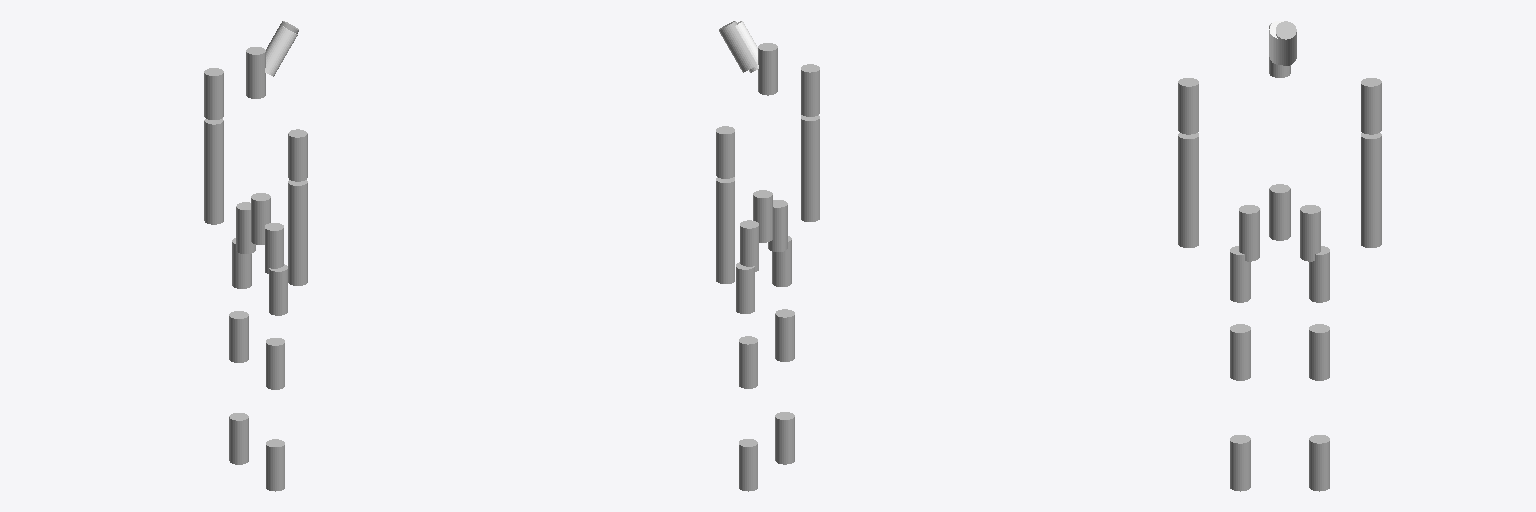
--- Render facts (derived) ---
Views: 3 orthographic renders of the robot side by side, from view 1: azimuth 30°, elevation 25°; view 2: azimuth 150°, elevation 25°; view 3: azimuth 270°, elevation 25°.
Model biped_s40 with 46 links and 45 joints (28 revolute, 17 fixed), rooted at dummy_link, posed all joints at 0.
Links seen in each view (by area): view 1: zarm_l1_link, leg_l4_link, zarm_r1_link, leg_l5_link, zhead_1_link, leg_r4_link, leg_r5_link, zarm_r4_link, zarm_l4_link, leg_r3_link, base_link, leg_r1_link (+5 smaller); view 2: leg_r4_link, leg_r5_link, zhead_1_link, leg_l4_link, zarm_l1_link, zarm_r1_link, leg_l5_link, leg_l3_link, zarm_l4_link, base_link, leg_l1_link, zarm_r4_link (+5 smaller); view 3: base_link, leg_l4_link, leg_r4_link, zarm_l1_link, zarm_r1_link, leg_l5_link, leg_r5_link, leg_l1_link, leg_r1_link, leg_l3_link, leg_r3_link, zarm_l4_link (+6 smaller).
Boxes of the visible links, x1,y1,x2,y2 form: zarm_l1_link: (204,68,223,119); leg_l4_link: (229,311,248,362); zarm_r1_link: (288,129,307,181); leg_l5_link: (229,413,248,464); zhead_1_link: (246,47,265,98); leg_r4_link: (266,338,284,389); leg_r5_link: (266,439,284,491); zarm_r4_link: (288,180,307,229); zarm_l4_link: (204,118,223,168); leg_r3_link: (269,264,287,315); base_link: (251,193,270,244); leg_r1_link: (265,223,283,273); leg_r4_link: (775,309,794,361); leg_r5_link: (775,412,794,464); zhead_1_link: (758,43,777,95); leg_l4_link: (739,336,757,388); zarm_l1_link: (716,126,734,178); zarm_r1_link: (801,64,819,116); leg_l5_link: (739,439,757,491); leg_l3_link: (736,262,754,313); zarm_l4_link: (716,177,734,227); base_link: (753,190,772,242); leg_l1_link: (740,220,758,271); zarm_r4_link: (801,115,819,165); base_link: (1269,184,1290,240); leg_l4_link: (1309,324,1329,380); leg_r4_link: (1230,324,1250,380); zarm_l1_link: (1361,78,1381,134); zarm_r1_link: (1178,78,1198,134); leg_l5_link: (1309,435,1329,491); leg_r5_link: (1230,435,1250,491); leg_l1_link: (1300,205,1320,261); leg_r1_link: (1239,205,1259,261); leg_l3_link: (1309,246,1329,302); leg_r3_link: (1230,246,1250,302); zarm_l4_link: (1361,133,1381,186).
Bounding box of the posed robot: 0.1895 × 0.5777 × 1.51 m (x, y, z).
Geometry: primitives only (box / cylinder / sphere), no mesh files.

The robot description file, URDF, robot "biped_s40":
<?xml version='1.0' encoding='utf-8'?>
<robot name="biped_s40">
  <mujoco>
    <compiler meshdir="../meshes/" balanceinertia="true" discardvisual="false" />
  </mujoco>
  <link name="dummy_link" />
  <link name="base_link">
    <inertial>
      <origin xyz="-0.00505 0.0014 0.18077" rpy="0 0 0" />
      <mass value="18.7919" />
      <inertia ixx="0.28214" ixy="3e-05" ixz="0.01114" iyy="0.20534" iyz="0.00044" izz="0.13735" />
    </inertial>
        <visual>
      <origin xyz="0 0 0" rpy="0 0 0" />
      <geometry>
        <cylinder radius="0.03" length="0.15" />
      </geometry>
      <material name="">
        <color rgba="0.8 0.8 0.8 1" />
      </material>
    </visual>
    <visual>
      <origin xyz="0 0 0" rpy="0 0 0" />
      <geometry>
        <sphere radius="0.03" />
      </geometry>
      <material name="">
        <color rgba="0.6 0.6 0.9 1" />
      </material>
    </visual>
  </link>
  <joint name="dummy_to_base_link" type="fixed">
    <origin xyz="0 0 0" rpy="0 0 0" />
    <parent link="dummy_link" />
    <child link="base_link" />
  </joint>
  <link name="leg_l1_link">
    <inertial>
      <origin xyz="-0.00624961 -5.6e-06 -0.00874166" rpy="0 0 0" />
      <mass value="1.79206533" />
      <inertia ixx="0.00211603" ixy="7.6e-07" ixz="0.000107" iyy="0.00302948" iyz="4.73e-06" izz="0.00399385" />
    </inertial>
        <visual>
      <origin xyz="0 0 0" rpy="0 0 0" />
      <geometry>
        <cylinder radius="0.03" length="0.15" />
      </geometry>
      <material name="">
        <color rgba="0.8 0.8 0.8 1" />
      </material>
    </visual>
    <visual>
      <origin xyz="0 0 0" rpy="0 0 0" />
      <geometry>
        <sphere radius="0.03" />
      </geometry>
      <material name="">
        <color rgba="0.6 0.6 0.9 1" />
      </material>
    </visual>
  </link>
  <joint name="leg_l1_joint" type="revolute">
    <origin xyz="-0.0025 0.087 -0.066" rpy="0 0 0" />
    <parent link="base_link" />
    <child link="leg_l1_link" />
    <axis xyz="1 0 0" />
    <limit lower="-0.314159265358979" upper="0.663225115757845" effort="180.0" velocity="23.55" />
  </joint>
  <link name="leg_l2_link">
    <inertial>
      <origin xyz="4.471e-05 0.04985881 -0.11682314" rpy="0 0 0" />
      <mass value="1.67630577" />
      <inertia ixx="0.00548763" ixy="-2.73e-06" ixz="-9.2e-07" iyy="0.0041542" iyz="0.00050833" izz="0.00426092" />
    </inertial>
        <visual>
      <origin xyz="0 0 0" rpy="0 0 0" />
      <geometry>
        <cylinder radius="0.03" length="0.15" />
      </geometry>
      <material name="">
        <color rgba="0.8 0.8 0.8 1" />
      </material>
    </visual>
    <visual>
      <origin xyz="0 0 0" rpy="0 0 0" />
      <geometry>
        <sphere radius="0.03" />
      </geometry>
      <material name="">
        <color rgba="0.6 0.6 0.9 1" />
      </material>
    </visual>
  </link>
  <joint name="leg_l2_joint" type="revolute">
    <origin xyz="0 0 0" rpy="0 0 0" />
    <parent link="leg_l1_link" />
    <child link="leg_l2_link" />
    <axis xyz="0 0 1" />
    <limit lower="-1.0471975511966" upper="0.523598775598299" effort="100.0" velocity="41.3433333333333" />
  </joint>
  <link name="leg_l3_link">
    <inertial>
      <origin xyz="-0.00238348 -0.02309435 -0.06304956" rpy="0 0 0" />
      <mass value="2.46847" />
      <inertia ixx="0.02435272" ixy="4.518e-05" ixz="0.00123822" iyy="0.02479772" iyz="0.00261624" izz="0.00478829" />
    </inertial>
        <visual>
      <origin xyz="0 0 0" rpy="0 0 0" />
      <geometry>
        <cylinder radius="0.03" length="0.15" />
      </geometry>
      <material name="">
        <color rgba="0.8 0.8 0.8 1" />
      </material>
    </visual>
    <visual>
      <origin xyz="0 0 0" rpy="0 0 0" />
      <geometry>
        <sphere radius="0.03" />
      </geometry>
      <material name="">
        <color rgba="0.6 0.6 0.9 1" />
      </material>
    </visual>
  </link>
  <joint name="leg_l3_joint" type="revolute">
    <origin xyz="0 0.02545000000000 -0.1287" rpy="0 0 0" />
    <parent link="leg_l2_link" />
    <child link="leg_l3_link" />
    <axis xyz="0 1 0" />
    <limit lower="-1.83259571459405" upper="1.0471975511966" effort="100.0" velocity="41.3433333333333" />
  </joint>
  <link name="leg_l4_link">
    <inertial>
      <origin xyz="0.00304104 -4.1e-05 -0.12213928" rpy="0 0 0" />
      <mass value="1.86452506" />
      <inertia ixx="0.01537791" ixy="7.85e-06" ixz="-0.00010781" iyy="0.01559985" iyz="-0.00015323" izz="0.00123021" />
    </inertial>
        <visual>
      <origin xyz="0 0 0" rpy="0 0 0" />
      <geometry>
        <cylinder radius="0.03" length="0.15" />
      </geometry>
      <material name="">
        <color rgba="0.8 0.8 0.8 1" />
      </material>
    </visual>
    <visual>
      <origin xyz="0 0 0" rpy="0 0 0" />
      <geometry>
        <sphere radius="0.03" />
      </geometry>
      <material name="">
        <color rgba="0.6 0.6 0.9 1" />
      </material>
    </visual>
  </link>
  <joint name="leg_l4_joint" type="revolute">
    <origin xyz="-0.010390161952608 0 -0.249783995753446" rpy="0 0 0" />
    <parent link="leg_l3_link" />
    <child link="leg_l4_link" />
    <axis xyz="0 1 0" />
    <limit lower="0.0" upper="2.18166156499291" effort="100.0" velocity="41.3433333333333" />
  </joint>
  <link name="leg_l5_link">
    <inertial>
      <origin xyz="0.0 0.0 0.0" rpy="0 0 0" />
      <mass value="0.06923929" />
      <inertia ixx="6.66e-06" ixy="0.0" ixz="0.0" iyy="6.66e-06" iyz="0.0" izz="1.172e-05" />
    </inertial>
        <visual>
      <origin xyz="0 0 0" rpy="0 0 0" />
      <geometry>
        <cylinder radius="0.03" length="0.15" />
      </geometry>
      <material name="">
        <color rgba="0.8 0.8 0.8 1" />
      </material>
    </visual>
    <visual>
      <origin xyz="0 0 0" rpy="0 0 0" />
      <geometry>
        <sphere radius="0.03" />
      </geometry>
      <material name="">
        <color rgba="0.6 0.6 0.9 1" />
      </material>
    </visual>
  </link>
  <joint name="leg_l5_joint" type="revolute">
    <origin xyz="0 0 -0.346000000000004" rpy="0 0 0" />
    <parent link="leg_l4_link" />
    <child link="leg_l5_link" />
    <axis xyz="0 1 0" />
    <limit lower="-0.610865238198015" upper="0.523598775598299" effort="36.0" velocity="23.0266666666667" />
  </joint>
  <link name="leg_l6_link">
    <inertial>
      <origin xyz="-0.00987056 -7.58e-06 -0.03365514" rpy="0 0 0" />
      <mass value="0.58358325" />
      <inertia ixx="0.0006342" ixy="1.4e-07" ixz="0.00031564" iyy="0.00227317" iyz="-2e-08" izz="0.00239382" />
    </inertial>
        <visual>
      <origin xyz="0 0 0" rpy="0 0 0" />
      <geometry>
        <cylinder radius="0.03" length="0.15" />
      </geometry>
      <material name="">
        <color rgba="0.8 0.8 0.8 1" />
      </material>
    </visual>
    <visual>
      <origin xyz="0 0 0" rpy="0 0 0" />
      <geometry>
        <sphere radius="0.03" />
      </geometry>
      <material name="">
        <color rgba="0.6 0.6 0.9 1" />
      </material>
    </visual>
  </link>
  <joint name="leg_l6_joint" type="revolute">
    <origin xyz="0 0 0" rpy="0 0 0" />
    <parent link="leg_l5_link" />
    <child link="leg_l6_link" />
    <axis xyz="1 0 0" />
    <limit lower="-0.349065850398866" upper="0.349065850398866" effort="36.0" velocity="23.0266666666667" />
  </joint>
  <link name="ll_foot_toe">
    <collision>
      <origin rpy="0 0 0" xyz="0 0 0" />
      <geometry>
        <sphere radius="0.005" />
      </geometry>
    </collision>
  </link>
  <joint name="ll_foot_toe_joint" type="fixed">
    <origin xyz="0.142507 0.04773 -0.0595" rpy="0 0 0" />
    <parent link="leg_l6_link" />
    <child link="ll_foot_toe" />
  </joint>
  <link name="ll_foot_heel">
    <collision>
      <origin rpy="0 0 0" xyz="0 0 0" />
      <geometry>
        <sphere radius="0.005" />
      </geometry>
    </collision>
  </link>
  <joint name="ll_foot_heel_joint" type="fixed">
    <origin xyz="-0.10149 0.04773 -0.0595" rpy="0 0 0" />
    <parent link="leg_l6_link" />
    <child link="ll_foot_heel" />
  </joint>
  <link name="lr_foot_toe">
    <collision>
      <origin rpy="0 0 0" xyz="0 0 0" />
      <geometry>
        <sphere radius="0.005" />
      </geometry>
    </collision>
  </link>
  <joint name="lr_foot_toe_joint" type="fixed">
    <origin xyz="0.142507 -0.04773 -0.0595" rpy="0 0 0" />
    <parent link="leg_l6_link" />
    <child link="lr_foot_toe" />
  </joint>
  <link name="lr_foot_heel">
    <collision>
      <origin rpy="0 0 0" xyz="0 0 0" />
      <geometry>
        <sphere radius="0.005" />
      </geometry>
    </collision>
  </link>
  <joint name="lr_foot_heel_joint" type="fixed">
    <origin xyz="-0.10149 -0.04773 -0.0595" rpy="0 0 0" />
    <parent link="leg_l6_link" />
    <child link="lr_foot_heel" />
  </joint>
  <link name="l_foot_toe">
    <collision>
      <origin rpy="0 0 0" xyz="0 0 0" />
      <geometry>
        <sphere radius="0.005" />
      </geometry>
    </collision>
  </link>
  <joint name="l_foot_toe_joint" type="fixed">
    <origin xyz="0.142507 0.0 -0.0595" rpy="0 0 0" />
    <parent link="leg_l6_link" />
    <child link="l_foot_toe" />
  </joint>
  <link name="l_foot_heel">
    <collision>
      <origin rpy="0 0 0" xyz="0 0 0" />
      <geometry>
        <sphere radius="0.005" />
      </geometry>
    </collision>
  </link>
  <joint name="l_foot_heel_joint" type="fixed">
    <origin xyz="-0.10149 0.0 -0.0595" rpy="0 0 0" />
    <parent link="leg_l6_link" />
    <child link="l_foot_heel" />
  </joint>
  <link name="leg_r1_link">
    <inertial>
      <origin xyz="-0.00624961 5.65e-06 -0.00874165" rpy="0 0 0" />
      <mass value="1.79206572" />
      <inertia ixx="0.00211603" ixy="-7.6e-07" ixz="0.000107" iyy="0.00302948" iyz="-4.73e-06" izz="0.00399385" />
    </inertial>
        <visual>
      <origin xyz="0 0 0" rpy="0 0 0" />
      <geometry>
        <cylinder radius="0.03" length="0.15" />
      </geometry>
      <material name="">
        <color rgba="0.8 0.8 0.8 1" />
      </material>
    </visual>
    <visual>
      <origin xyz="0 0 0" rpy="0 0 0" />
      <geometry>
        <sphere radius="0.03" />
      </geometry>
      <material name="">
        <color rgba="0.6 0.6 0.9 1" />
      </material>
    </visual>
  </link>
  <joint name="leg_r1_joint" type="revolute">
    <origin xyz="-0.0025 -0.087 -0.066" rpy="0 0 0" />
    <parent link="base_link" />
    <child link="leg_r1_link" />
    <axis xyz="1 0 0" />
    <limit lower="-0.663225115757845" upper="0.314159265358979" effort="180.0" velocity="23.55" />
  </joint>
  <link name="leg_r2_link">
    <inertial>
      <origin xyz="4.471e-05 -0.04985878 -0.11682313" rpy="0 0 0" />
      <mass value="1.67630636" />
      <inertia ixx="0.00548764" ixy="2.73e-06" ixz="-9.2e-07" iyy="0.00415421" iyz="-0.00050832" izz="0.00426093" />
    </inertial>
        <visual>
      <origin xyz="0 0 0" rpy="0 0 0" />
      <geometry>
        <cylinder radius="0.03" length="0.15" />
      </geometry>
      <material name="">
        <color rgba="0.8 0.8 0.8 1" />
      </material>
    </visual>
    <visual>
      <origin xyz="0 0 0" rpy="0 0 0" />
      <geometry>
        <sphere radius="0.03" />
      </geometry>
      <material name="">
        <color rgba="0.6 0.6 0.9 1" />
      </material>
    </visual>
  </link>
  <joint name="leg_r2_joint" type="revolute">
    <origin xyz="0 0 0" rpy="0 0 0" />
    <parent link="leg_r1_link" />
    <child link="leg_r2_link" />
    <axis xyz="0 0 1" />
    <limit lower="-0.523598775598299" upper="1.0471975511966" effort="100.0" velocity="41.3433333333333" />
  </joint>
  <link name="leg_r3_link">
    <inertial>
      <origin xyz="-0.00238153 0.02309009 -0.06305853" rpy="0 0 0" />
      <mass value="2.46916674" />
      <inertia ixx="0.02435155" ixy="-4.518e-05" ixz="0.00123747" iyy="0.02479853" iyz="-0.00261573" izz="0.0047908" />
    </inertial>
        <visual>
      <origin xyz="0 0 0" rpy="0 0 0" />
      <geometry>
        <cylinder radius="0.03" length="0.15" />
      </geometry>
      <material name="">
        <color rgba="0.8 0.8 0.8 1" />
      </material>
    </visual>
    <visual>
      <origin xyz="0 0 0" rpy="0 0 0" />
      <geometry>
        <sphere radius="0.03" />
      </geometry>
      <material name="">
        <color rgba="0.6 0.6 0.9 1" />
      </material>
    </visual>
  </link>
  <joint name="leg_r3_joint" type="revolute">
    <origin xyz="0 -0.02545000000000 -0.1287" rpy="0 0 0" />
    <parent link="leg_r2_link" />
    <child link="leg_r3_link" />
    <axis xyz="0 1 0" />
    <limit lower="-1.83259571459405" upper="1.0471975511966" effort="100.0" velocity="41.3433333333333" />
  </joint>
  <link name="leg_r4_link">
    <inertial>
      <origin xyz="0.00304109 4.102e-05 -0.12213983" rpy="0 0 0" />
      <mass value="1.86454133" />
      <inertia ixx="0.01537809" ixy="-7.85e-06" ixz="-0.00010779" iyy="0.01560001" iyz="0.00015322" izz="0.00123022" />
    </inertial>
        <visual>
      <origin xyz="0 0 0" rpy="0 0 0" />
      <geometry>
        <cylinder radius="0.03" length="0.15" />
      </geometry>
      <material name="">
        <color rgba="0.8 0.8 0.8 1" />
      </material>
    </visual>
    <visual>
      <origin xyz="0 0 0" rpy="0 0 0" />
      <geometry>
        <sphere radius="0.03" />
      </geometry>
      <material name="">
        <color rgba="0.6 0.6 0.9 1" />
      </material>
    </visual>
  </link>
  <joint name="leg_r4_joint" type="revolute">
    <origin xyz="-0.0103901619526017 0 -0.249783995753447" rpy="0 0 0" />
    <parent link="leg_r3_link" />
    <child link="leg_r4_link" />
    <axis xyz="0 1 0" />
    <limit lower="0.0" upper="2.18166156499291" effort="100.0" velocity="41.3433333333333" />
  </joint>
  <link name="leg_r5_link">
    <inertial>
      <origin xyz="0.0 0.0 0.0" rpy="0 0 0" />
      <mass value="0.06923929" />
      <inertia ixx="6.66e-06" ixy="0.0" ixz="0.0" iyy="6.66e-06" iyz="0.0" izz="1.172e-05" />
    </inertial>
        <visual>
      <origin xyz="0 0 0" rpy="0 0 0" />
      <geometry>
        <cylinder radius="0.03" length="0.15" />
      </geometry>
      <material name="">
        <color rgba="0.8 0.8 0.8 1" />
      </material>
    </visual>
    <visual>
      <origin xyz="0 0 0" rpy="0 0 0" />
      <geometry>
        <sphere radius="0.03" />
      </geometry>
      <material name="">
        <color rgba="0.6 0.6 0.9 1" />
      </material>
    </visual>
  </link>
  <joint name="leg_r5_joint" type="revolute">
    <origin xyz="0 0 -0.346000000000011" rpy="0 0 0" />
    <parent link="leg_r4_link" />
    <child link="leg_r5_link" />
    <axis xyz="0 1 0" />
    <limit lower="-0.523598775598299" upper="0.523598775598299" effort="36.0" velocity="23.0266666666667" />
  </joint>
  <link name="leg_r6_link">
    <inertial>
      <origin xyz="-0.00987049 7.65e-06 -0.03365512" rpy="0 0 0" />
      <mass value="0.58358273" />
      <inertia ixx="0.0006342" ixy="-1.4e-07" ixz="0.00031564" iyy="0.00227317" iyz="2e-08" izz="0.00239382" />
    </inertial>
        <visual>
      <origin xyz="0 0 0" rpy="0 0 0" />
      <geometry>
        <cylinder radius="0.03" length="0.15" />
      </geometry>
      <material name="">
        <color rgba="0.8 0.8 0.8 1" />
      </material>
    </visual>
    <visual>
      <origin xyz="0 0 0" rpy="0 0 0" />
      <geometry>
        <sphere radius="0.03" />
      </geometry>
      <material name="">
        <color rgba="0.6 0.6 0.9 1" />
      </material>
    </visual>
  </link>
  <joint name="leg_r6_joint" type="revolute">
    <origin xyz="0 0 0" rpy="0 0 0" />
    <parent link="leg_r5_link" />
    <child link="leg_r6_link" />
    <axis xyz="1 0 0" />
    <limit lower="-0.349065850398866" upper="0.349065850398866" effort="36.0" velocity="23.0266666666667" />
  </joint>
  <link name="rl_foot_toe">
    <collision>
      <origin rpy="0 0 0" xyz="0 0 0" />
      <geometry>
        <sphere radius="0.005" />
      </geometry>
    </collision>
  </link>
  <joint name="rl_foot_toe_joint" type="fixed">
    <origin xyz="0.142507 0.04773 -0.0595" rpy="0 0 0" />
    <parent link="leg_r6_link" />
    <child link="rl_foot_toe" />
  </joint>
  <link name="rl_foot_heel">
    <collision>
      <origin rpy="0 0 0" xyz="0 0 0" />
      <geometry>
        <sphere radius="0.005" />
      </geometry>
    </collision>
  </link>
  <joint name="rl_foot_heel_joint" type="fixed">
    <origin xyz="-0.10149 0.04773 -0.0595" rpy="0 0 0" />
    <parent link="leg_r6_link" />
    <child link="rl_foot_heel" />
  </joint>
  <link name="rr_foot_toe">
    <collision>
      <origin rpy="0 0 0" xyz="0 0 0" />
      <geometry>
        <sphere radius="0.005" />
      </geometry>
    </collision>
  </link>
  <joint name="rr_foot_toe_joint" type="fixed">
    <origin xyz="0.142507 -0.04773 -0.0595" rpy="0 0 0" />
    <parent link="leg_r6_link" />
    <child link="rr_foot_toe" />
  </joint>
  <link name="rr_foot_heel">
    <collision>
      <origin rpy="0 0 0" xyz="0 0 0" />
      <geometry>
        <sphere radius="0.005" />
      </geometry>
    </collision>
  </link>
  <joint name="rr_foot_heel_joint" type="fixed">
    <origin xyz="-0.10149 -0.04773 -0.0595" rpy="0 0 0" />
    <parent link="leg_r6_link" />
    <child link="rr_foot_heel" />
  </joint>
  <link name="r_foot_toe">
    <collision>
      <origin rpy="0 0 0" xyz="0 0 0" />
      <geometry>
        <sphere radius="0.005" />
      </geometry>
    </collision>
  </link>
  <joint name="r_foot_toe_joint" type="fixed">
    <origin xyz="0.142507 0.0 -0.0595" rpy="0 0 0" />
    <parent link="leg_r6_link" />
    <child link="r_foot_toe" />
  </joint>
  <link name="r_foot_heel">
    <collision>
      <origin rpy="0 0 0" xyz="0 0 0" />
      <geometry>
        <sphere radius="0.005" />
      </geometry>
    </collision>
  </link>
  <joint name="r_foot_heel_joint" type="fixed">
    <origin xyz="-0.10149 0.0 -0.0595" rpy="0 0 0" />
    <parent link="leg_r6_link" />
    <child link="r_foot_heel" />
  </joint>
  <link name="zarm_l1_link">
    <inertial>
      <origin xyz="0.008 -0.00158 0.0036" rpy="0 0 0" />
      <mass value="1.15" />
      <inertia ixx="0.0006" ixy="5e-05" ixz="1e-05" iyy="0.00048" iyz="-6e-05" izz="0.0007" />
    </inertial>
        <visual>
      <origin xyz="0 0 0" rpy="0 0 0" />
      <geometry>
        <cylinder radius="0.03" length="0.15" />
      </geometry>
      <material name="">
        <color rgba="0.8 0.8 0.8 1" />
      </material>
    </visual>
    <visual>
      <origin xyz="0 0 0" rpy="0 0 0" />
      <geometry>
        <sphere radius="0.03" />
      </geometry>
      <material name="">
        <color rgba="0.6 0.6 0.9 1" />
      </material>
    </visual>
  </link>
  <joint name="zarm_l1_joint" type="revolute">
    <origin xyz="-0.0175 0.25886 0.3245" rpy="0 0 0" />
    <parent link="base_link" />
    <child link="zarm_l1_link" />
    <axis xyz="0 1 0" />
    <limit lower="-2.61799387799149" upper="0.523598775598299" effort="100.0" velocity="41.3433333333333" />
  </joint>
  <link name="zarm_l2_link">
    <inertial>
      <origin xyz="0.00144 0.02159 -0.0202" rpy="0 0 0" />
      <mass value="0.226" />
      <inertia ixx="0.0003" ixy="3e-05" ixz="1e-05" iyy="0.00061" iyz="5e-05" izz="0.00057" />
    </inertial>
        <visual>
      <origin xyz="0 0 0" rpy="0 0 0" />
      <geometry>
        <cylinder radius="0.03" length="0.15" />
      </geometry>
      <material name="">
        <color rgba="0.8 0.8 0.8 1" />
      </material>
    </visual>
    <visual>
      <origin xyz="0 0 0" rpy="0 0 0" />
      <geometry>
        <sphere radius="0.03" />
      </geometry>
      <material name="">
        <color rgba="0.6 0.6 0.9 1" />
      </material>
    </visual>
  </link>
  <joint name="zarm_l2_joint" type="revolute">
    <origin xyz="0 0 0" rpy="0 0 0" />
    <parent link="zarm_l1_link" />
    <child link="zarm_l2_link" />
    <axis xyz="1 0 0" />
    <limit lower="-0.349065850398866" upper="2.0943951023932" effort="50.0" velocity="19.154" />
  </joint>
  <link name="zarm_l3_link">
    <inertial>
      <origin xyz="-0.00157 -3e-05 -0.13318" rpy="0 0 0" />
      <mass value="1.166" />
      <inertia ixx="0.00245" ixy="-1e-05" ixz="-1e-05" iyy="0.0022" iyz="0.0" izz="0.00112" />
    </inertial>
        <visual>
      <origin xyz="0 0 0" rpy="0 0 0" />
      <geometry>
        <cylinder radius="0.03" length="0.15" />
      </geometry>
      <material name="">
        <color rgba="0.8 0.8 0.8 1" />
      </material>
    </visual>
    <visual>
      <origin xyz="0 0 0" rpy="0 0 0" />
      <geometry>
        <sphere radius="0.03" />
      </geometry>
      <material name="">
        <color rgba="0.6 0.6 0.9 1" />
      </material>
    </visual>
  </link>
  <joint name="zarm_l3_joint" type="revolute">
    <origin xyz="0 0 0" rpy="0 0 0" />
    <parent link="zarm_l2_link" />
    <child link="zarm_l3_link" />
    <axis xyz="0 0 1" />
    <limit lower="-1.5707963267949" upper="1.5707963267949" effort="20.0" velocity="18.84" />
  </joint>
  <link name="zarm_l4_link">
    <inertial>
      <origin xyz="-4e-05 0.0098 -0.05283" rpy="0 0 0" />
      <mass value="0.575" />
      <inertia ixx="0.00098" ixy="0.0" ixz="0.0" iyy="0.00062" iyz="-0.00016" izz="0.00088" />
    </inertial>
        <visual>
      <origin xyz="0 0 0" rpy="0 0 0" />
      <geometry>
        <cylinder radius="0.03" length="0.15" />
      </geometry>
      <material name="">
        <color rgba="0.8 0.8 0.8 1" />
      </material>
    </visual>
    <visual>
      <origin xyz="0 0 0" rpy="0 0 0" />
      <geometry>
        <sphere radius="0.03" />
      </geometry>
      <material name="">
        <color rgba="0.6 0.6 0.9 1" />
      </material>
    </visual>
  </link>
  <joint name="zarm_l4_joint" type="revolute">
    <origin xyz="0 0 -0.1646" rpy="0 0 0" />
    <parent link="zarm_l3_link" />
    <child link="zarm_l4_link" />
    <axis xyz="0 1 0" />
    <limit lower="-1.5707963267949" upper="0.0" effort="20.0" velocity="18.84" />
  </joint>
  <link name="zarm_l5_link">
    <inertial>
      <origin xyz="-0.00011 0.00421 -0.11168" rpy="0 0 0" />
      <mass value="0.46" />
      <inertia ixx="0.00077" ixy="0.0" ixz="0.0" iyy="0.0005" iyz="-4e-05" izz="0.00063" />
    </inertial>
        <visual>
      <origin xyz="0 0 0" rpy="0 0 0" />
      <geometry>
        <cylinder radius="0.03" length="0.15" />
      </geometry>
      <material name="">
        <color rgba="0.8 0.8 0.8 1" />
      </material>
    </visual>
    <visual>
      <origin xyz="0 0 0" rpy="0 0 0" />
      <geometry>
        <sphere radius="0.03" />
      </geometry>
      <material name="">
        <color rgba="0.6 0.6 0.9 1" />
      </material>
    </visual>
  </link>
  <joint name="zarm_l5_joint" type="revolute">
    <origin xyz="0 0 0" rpy="0 0 0" />
    <parent link="zarm_l4_link" />
    <child link="zarm_l5_link" />
    <axis xyz="0 0 1" />
    <limit lower="-1.5707963267949" upper="1.5707963267949" effort="6.0" velocity="21.666" />
  </joint>
  <link name="zarm_l6_link">
    <inertial>
      <origin xyz="0.00253 0.00382 -0.05356" rpy="0 0 0" />
      <mass value="0.35" />
      <inertia ixx="0.00023" ixy="0.0" ixz="0.0" iyy="0.00024" iyz="-4e-05" izz="0.00019" />
    </inertial>
        <visual>
      <origin xyz="0 0 0" rpy="0 0 0" />
      <geometry>
        <cylinder radius="0.03" length="0.15" />
      </geometry>
      <material name="">
        <color rgba="0.8 0.8 0.8 1" />
      </material>
    </visual>
    <visual>
      <origin xyz="0 0 0" rpy="0 0 0" />
      <geometry>
        <sphere radius="0.03" />
      </geometry>
      <material name="">
        <color rgba="0.6 0.6 0.9 1" />
      </material>
    </visual>
  </link>
  <joint name="zarm_l6_joint" type="revolute">
    <origin xyz="0 0 -0.132050000125748" rpy="0 0 0" />
    <parent link="zarm_l5_link" />
    <child link="zarm_l6_link" />
    <axis xyz="0 1 0" />
    <limit lower="-1.5707963267949" upper="1.5707963267949" effort="6.0" velocity="21.666" />
  </joint>
  <link name="zarm_l7_link">
    <inertial>
      <origin xyz="0.00267 0.00748 -0.07162" rpy="0 0 0" />
      <mass value="0.81" />
      <inertia ixx="0.00117" ixy="2e-05" ixz="0.0" iyy="0.00128" iyz="-2e-05" izz="0.00036" />
    </inertial>
        <visual>
      <origin xyz="0 0 0" rpy="0 0 0" />
      <geometry>
        <cylinder radius="0.03" length="0.15" />
      </geometry>
      <material name="">
        <color rgba="0.8 0.8 0.8 1" />
      </material>
    </visual>
    <visual>
      <origin xyz="0 0 0" rpy="0 0 0" />
      <geometry>
        <sphere radius="0.03" />
      </geometry>
      <material name="">
        <color rgba="0.6 0.6 0.9 1" />
      </material>
    </visual>
  </link>
  <joint name="zarm_l7_joint" type="revolute">
    <origin xyz="0 0 -0.0589999999999999" rpy="0 0 0" />
    <parent link="zarm_l6_link" />
    <child link="zarm_l7_link" />
    <axis xyz="1 0 0" />
    <limit lower="-1.5707963267949" upper="1.5707963267949" effort="6.0" velocity="21.666" />
  </joint>
  <link name="zarm_l7_end_effector">
    <collision>
      <origin rpy="0 0 0" xyz="0 0 0" />
      <geometry>
        <sphere radius="0.005" />
      </geometry>
    </collision>
  </link>
  <joint name="zarm_l7_end_effector_joint" type="fixed">
    <origin xyz="0 -0.03 -0.17" rpy="0 0 0" />
    <parent link="zarm_l7_link" />
    <child link="zarm_l7_end_effector" />
  </joint>
  <link name="zarm_r1_link">
    <inertial>
      <origin xyz="0.008 0.00158 -0.0036" rpy="0 0 0" />
      <mass value="1.15" />
      <inertia ixx="0.0006" ixy="-5e-05" ixz="-1e-05" iyy="0.00048" iyz="-6e-05" izz="0.0007" />
    </inertial>
        <visual>
      <origin xyz="0 0 0" rpy="0 0 0" />
      <geometry>
        <cylinder radius="0.03" length="0.15" />
      </geometry>
      <material name="">
        <color rgba="0.8 0.8 0.8 1" />
      </material>
    </visual>
    <visual>
      <origin xyz="0 0 0" rpy="0 0 0" />
      <geometry>
        <sphere radius="0.03" />
      </geometry>
      <material name="">
        <color rgba="0.6 0.6 0.9 1" />
      </material>
    </visual>
  </link>
  <joint name="zarm_r1_joint" type="revolute">
    <origin xyz="-0.0175 -0.25886 0.3245" rpy="0 0 0" />
    <parent link="base_link" />
    <child link="zarm_r1_link" />
    <axis xyz="0 1 0" />
    <limit lower="-2.61799387799149" upper="0.523598775598299" effort="100.0" velocity="41.3433333333333" />
  </joint>
  <link name="zarm_r2_link">
    <inertial>
      <origin xyz="0.00144 -0.02159 -0.02021" rpy="0 0 0" />
      <mass value="0.226" />
      <inertia ixx="0.0003" ixy="-3e-05" ixz="1e-05" iyy="0.00061" iyz="-5e-05" izz="0.00057" />
    </inertial>
        <visual>
      <origin xyz="0 0 0" rpy="0 0 0" />
      <geometry>
        <cylinder radius="0.03" length="0.15" />
      </geometry>
      <material name="">
        <color rgba="0.8 0.8 0.8 1" />
      </material>
    </visual>
    <visual>
      <origin xyz="0 0 0" rpy="0 0 0" />
      <geometry>
        <sphere radius="0.03" />
      </geometry>
      <material name="">
        <color rgba="0.6 0.6 0.9 1" />
      </material>
    </visual>
  </link>
  <joint name="zarm_r2_joint" type="revolute">
    <origin xyz="0 0 0" rpy="0 0 0" />
    <parent link="zarm_r1_link" />
    <child link="zarm_r2_link" />
    <axis xyz="1 0 0" />
    <limit lower="-2.0943951023932" upper="0.349065850398866" effort="50.0" velocity="19.154" />
  </joint>
  <link name="zarm_r3_link">
    <inertial>
      <origin xyz="-0.00157 3e-05 -0.13318" rpy="0 0 0" />
      <mass value="1.166" />
      <inertia ixx="0.00245" ixy="1e-05" ixz="-1e-05" iyy="0.0022" iyz="0.0" izz="0.00112" />
    </inertial>
        <visual>
      <origin xyz="0 0 0" rpy="0 0 0" />
      <geometry>
        <cylinder radius="0.03" length="0.15" />
      </geometry>
      <material name="">
        <color rgba="0.8 0.8 0.8 1" />
      </material>
    </visual>
    <visual>
      <origin xyz="0 0 0" rpy="0 0 0" />
      <geometry>
        <sphere radius="0.03" />
      </geometry>
      <material name="">
        <color rgba="0.6 0.6 0.9 1" />
      </material>
    </visual>
  </link>
  <joint name="zarm_r3_joint" type="revolute">
    <origin xyz="0 0 0" rpy="0 0 0" />
    <parent link="zarm_r2_link" />
    <child link="zarm_r3_link" />
    <axis xyz="0 0 1" />
    <limit lower="-1.5707963267949" upper="1.5707963267949" effort="20.0" velocity="18.84" />
  </joint>
  <link name="zarm_r4_link">
    <inertial>
      <origin xyz="-4e-05 -0.0098 -0.05283" rpy="0 0 0" />
      <mass value="0.575" />
      <inertia ixx="0.00098" ixy="0.0" ixz="0.0" iyy="0.00062" iyz="0.00016" izz="0.00088" />
    </inertial>
        <visual>
      <origin xyz="0 0 0" rpy="0 0 0" />
      <geometry>
        <cylinder radius="0.03" length="0.15" />
      </geometry>
      <material name="">
        <color rgba="0.8 0.8 0.8 1" />
      </material>
    </visual>
    <visual>
      <origin xyz="0 0 0" rpy="0 0 0" />
      <geometry>
        <sphere radius="0.03" />
      </geometry>
      <material name="">
        <color rgba="0.6 0.6 0.9 1" />
      </material>
    </visual>
  </link>
  <joint name="zarm_r4_joint" type="revolute">
    <origin xyz="0 0 -0.1646" rpy="0 0 0" />
    <parent link="zarm_r3_link" />
    <child link="zarm_r4_link" />
    <axis xyz="0 1 0" />
    <limit lower="-1.5707963267949" upper="0.0" effort="20.0" velocity="18.84" />
  </joint>
  <link name="zarm_r5_link">
    <inertial>
      <origin xyz="-0.00011 -0.00421 -0.11168" rpy="0 0 0" />
      <mass value="0.46" />
      <inertia ixx="0.00077" ixy="0.0" ixz="0.0" iyy="0.0005" iyz="4e-05" izz="0.00063" />
    </inertial>
        <visual>
      <origin xyz="0 0 0" rpy="0 0 0" />
      <geometry>
        <cylinder radius="0.03" length="0.15" />
      </geometry>
      <material name="">
        <color rgba="0.8 0.8 0.8 1" />
      </material>
    </visual>
    <visual>
      <origin xyz="0 0 0" rpy="0 0 0" />
      <geometry>
        <sphere radius="0.03" />
      </geometry>
      <material name="">
        <color rgba="0.6 0.6 0.9 1" />
      </material>
    </visual>
  </link>
  <joint name="zarm_r5_joint" type="revolute">
    <origin xyz="0 0 0" rpy="0 0 0" />
    <parent link="zarm_r4_link" />
    <child link="zarm_r5_link" />
    <axis xyz="0 0 1" />
    <limit lower="-1.5707963267949" upper="1.5707963267949" effort="6.0" velocity="21.666" />
  </joint>
  <link name="zarm_r6_link">
    <inertial>
      <origin xyz="0.00253 -0.00382 -0.05356" rpy="0 0 0" />
      <mass value="0.35" />
      <inertia ixx="0.00023" ixy="0.0" ixz="0.0" iyy="0.00024" iyz="4e-05" izz="0.00019" />
    </inertial>
        <visual>
      <origin xyz="0 0 0" rpy="0 0 0" />
      <geometry>
        <cylinder radius="0.03" length="0.15" />
      </geometry>
      <material name="">
        <color rgba="0.8 0.8 0.8 1" />
      </material>
    </visual>
    <visual>
      <origin xyz="0 0 0" rpy="0 0 0" />
      <geometry>
        <sphere radius="0.03" />
      </geometry>
      <material name="">
        <color rgba="0.6 0.6 0.9 1" />
      </material>
    </visual>
  </link>
  <joint name="zarm_r6_joint" type="revolute">
    <origin xyz="0 0 -0.132050000240097" rpy="0 0 0" />
    <parent link="zarm_r5_link" />
    <child link="zarm_r6_link" />
    <axis xyz="0 1 0" />
    <limit lower="-1.5707963267949" upper="1.5707963267949" effort="6.0" velocity="21.666" />
  </joint>
  <link name="zarm_r7_link">
    <inertial>
      <origin xyz="0.00267 -0.00748 -0.07162" rpy="0 0 0" />
      <mass value="0.81" />
      <inertia ixx="0.00098" ixy="-1e-05" ixz="1e-05" iyy="0.00104" iyz="1e-05" izz="0.00027" />
    </inertial>
        <visual>
      <origin xyz="0 0 0" rpy="0 0 0" />
      <geometry>
        <cylinder radius="0.03" length="0.15" />
      </geometry>
      <material name="">
        <color rgba="0.8 0.8 0.8 1" />
      </material>
    </visual>
    <visual>
      <origin xyz="0 0 0" rpy="0 0 0" />
      <geometry>
        <sphere radius="0.03" />
      </geometry>
      <material name="">
        <color rgba="0.6 0.6 0.9 1" />
      </material>
    </visual>
  </link>
  <joint name="zarm_r7_joint" type="revolute">
    <origin xyz="0 0 -0.0589999999999999" rpy="0 0 0" />
    <parent link="zarm_r6_link" />
    <child link="zarm_r7_link" />
    <axis xyz="1 0 0" />
    <limit lower="-1.5707963267949" upper="1.5707963267949" effort="6.0" velocity="21.666" />
  </joint>
  <link name="zarm_r7_end_effector">
    <collision>
      <origin rpy="0 0 0" xyz="0 0 0" />
      <geometry>
        <sphere radius="0.005" />
      </geometry>
    </collision>
  </link>
  <joint name="zarm_r7_end_effector_joint" type="fixed">
    <origin xyz="0 0.03 -0.17" rpy="0 0 0" />
    <parent link="zarm_r7_link" />
    <child link="zarm_r7_end_effector" />
  </joint>
  <link name="zhead_1_link">
    <inertial>
      <origin xyz="0.0 0.01245 -0.02982" rpy="0 0 0" />
      <mass value="0.082" />
      <inertia ixx="7e-05" ixy="0.0" ixz="0.0" iyy="6e-05" iyz="-2e-05" izz="8e-05" />
    </inertial>
        <visual>
      <origin xyz="0 0 0" rpy="0 0 0" />
      <geometry>
        <cylinder radius="0.03" length="0.15" />
      </geometry>
      <material name="">
        <color rgba="0.8 0.8 0.8 1" />
      </material>
    </visual>
    <visual>
      <origin xyz="0 0 0" rpy="0 0 0" />
      <geometry>
        <sphere radius="0.03" />
      </geometry>
      <material name="">
        <color rgba="0.6 0.6 0.9 1" />
      </material>
    </visual>
  </link>
  <joint name="zhead_1_joint" type="revolute">
    <origin xyz="-0.0175 0.0 0.5014" rpy="0 0 0" />
    <parent link="base_link" />
    <child link="zhead_1_link" />
    <axis xyz="0 0 1" />
    <limit lower="-1.5707963267949" upper="1.5707963267949" effort="1.5" velocity="5.23333333333333" />
  </joint>
  <link name="zhead_2_link">
    <inertial>
      <origin xyz="0.01106 0.00069 0.0586" rpy="0 0 0" />
      <mass value="1.379" />
      <inertia ixx="0.003" ixy="1e-05" ixz="0.0003" iyy="0.00301" iyz="5e-05" izz="0.00281" />
    </inertial>
        <visual>
      <origin xyz="0 0 0" rpy="0 0 0" />
      <geometry>
        <cylinder radius="0.03" length="0.15" />
      </geometry>
      <material name="">
        <color rgba="0.8 0.8 0.8 1" />
      </material>
    </visual>
    <visual>
      <origin xyz="0 0 0" rpy="0 0 0" />
      <geometry>
        <sphere radius="0.03" />
      </geometry>
      <material name="">
        <color rgba="0.6 0.6 0.9 1" />
      </material>
    </visual>
  </link>
  <joint name="zhead_2_joint" type="revolute">
    <origin xyz="0 0 0" rpy="0 0 0" />
    <parent link="zhead_1_link" />
    <child link="zhead_2_link" />
    <axis xyz="0 1 0" />
    <limit lower="-0.523598775598299" upper="0.523598775598299" effort="6.0" velocity="9.734" />
  </joint>
  <link name="camera">
    <inertial>
      <origin xyz="-0.04336 -0.01736 -0.01161" rpy="0 0 0" />
      <mass value="0.047" />
      <inertia ixx="0.00065" ixy="0.0" ixz="0.00015" iyy="0.00091" iyz="0.0" izz="0.00105" />
    </inertial>
        <visual>
      <origin xyz="0 0 0" rpy="0 0 0" />
      <geometry>
        <cylinder radius="0.03" length="0.15" />
      </geometry>
      <material name="">
        <color rgba="0.8 0.8 0.8 1" />
      </material>
    </visual>
    <visual>
      <origin xyz="0 0 0" rpy="0 0 0" />
      <geometry>
        <sphere radius="0.03" />
      </geometry>
      <material name="">
        <color rgba="0.6 0.6 0.9 1" />
      </material>
    </visual>
  </link>
  <joint name="camera" type="fixed">
    <origin xyz="0.0919101155958193 0.0175000000022731 0.0617838754768194" rpy="0 0.610865238198013 0" />
    <parent link="zhead_2_link" />
    <child link="camera" />
  </joint>

  <link
    name="camera_base">
    <inertial>
      <origin
        xyz="0.00354055612698423 0.00140393663616134 0.0124511788327371"
        rpy="0 0 0" />
      <mass
        value="0.0170255961584929" />
      <inertia
        ixx="1.09182620877589E-05"
        ixy="1.05354237503678E-07"
        ixz="1.05871360812799E-08"
        iyy="8.57178923448405E-07"
        iyz="1.6401848102306E-08"
        izz="1.02869873531782E-05" />
    </inertial>
    <visual>
      <origin
        xyz="0 0 0"
        rpy="0 0 0" />
      <geometry>
        <cylinder radius="0.03" length="0.15" />
      </geometry>
      <material
        name="">
        <color
          rgba="1 1 1 1" />
      </material>
    </visual>
    <collision>
      <origin
        xyz="0 0 0"
        rpy="0 0 0" />
      <geometry>
        <cylinder radius="0.03" length="0.15" />
      </geometry>
    </collision>
  </link>
  <joint
    name="camera_base"
    type="fixed">
    <origin
      xyz="0.0766792844154498 0 0.0571889355165869"
      rpy="0 0.610865238198013 0" />
    <parent
      link="zhead_2_link" />
    <child
      link="camera_base" />
  </joint>
  
</robot>
